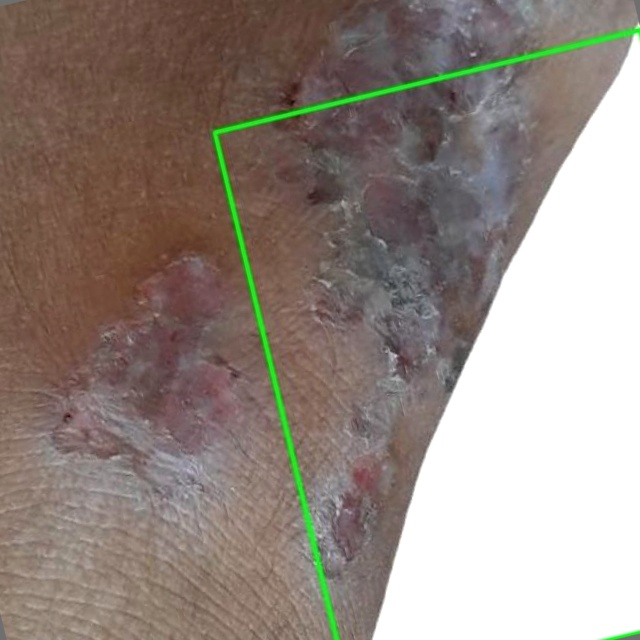Contact Dermatitis: (215, 30, 639, 639)
